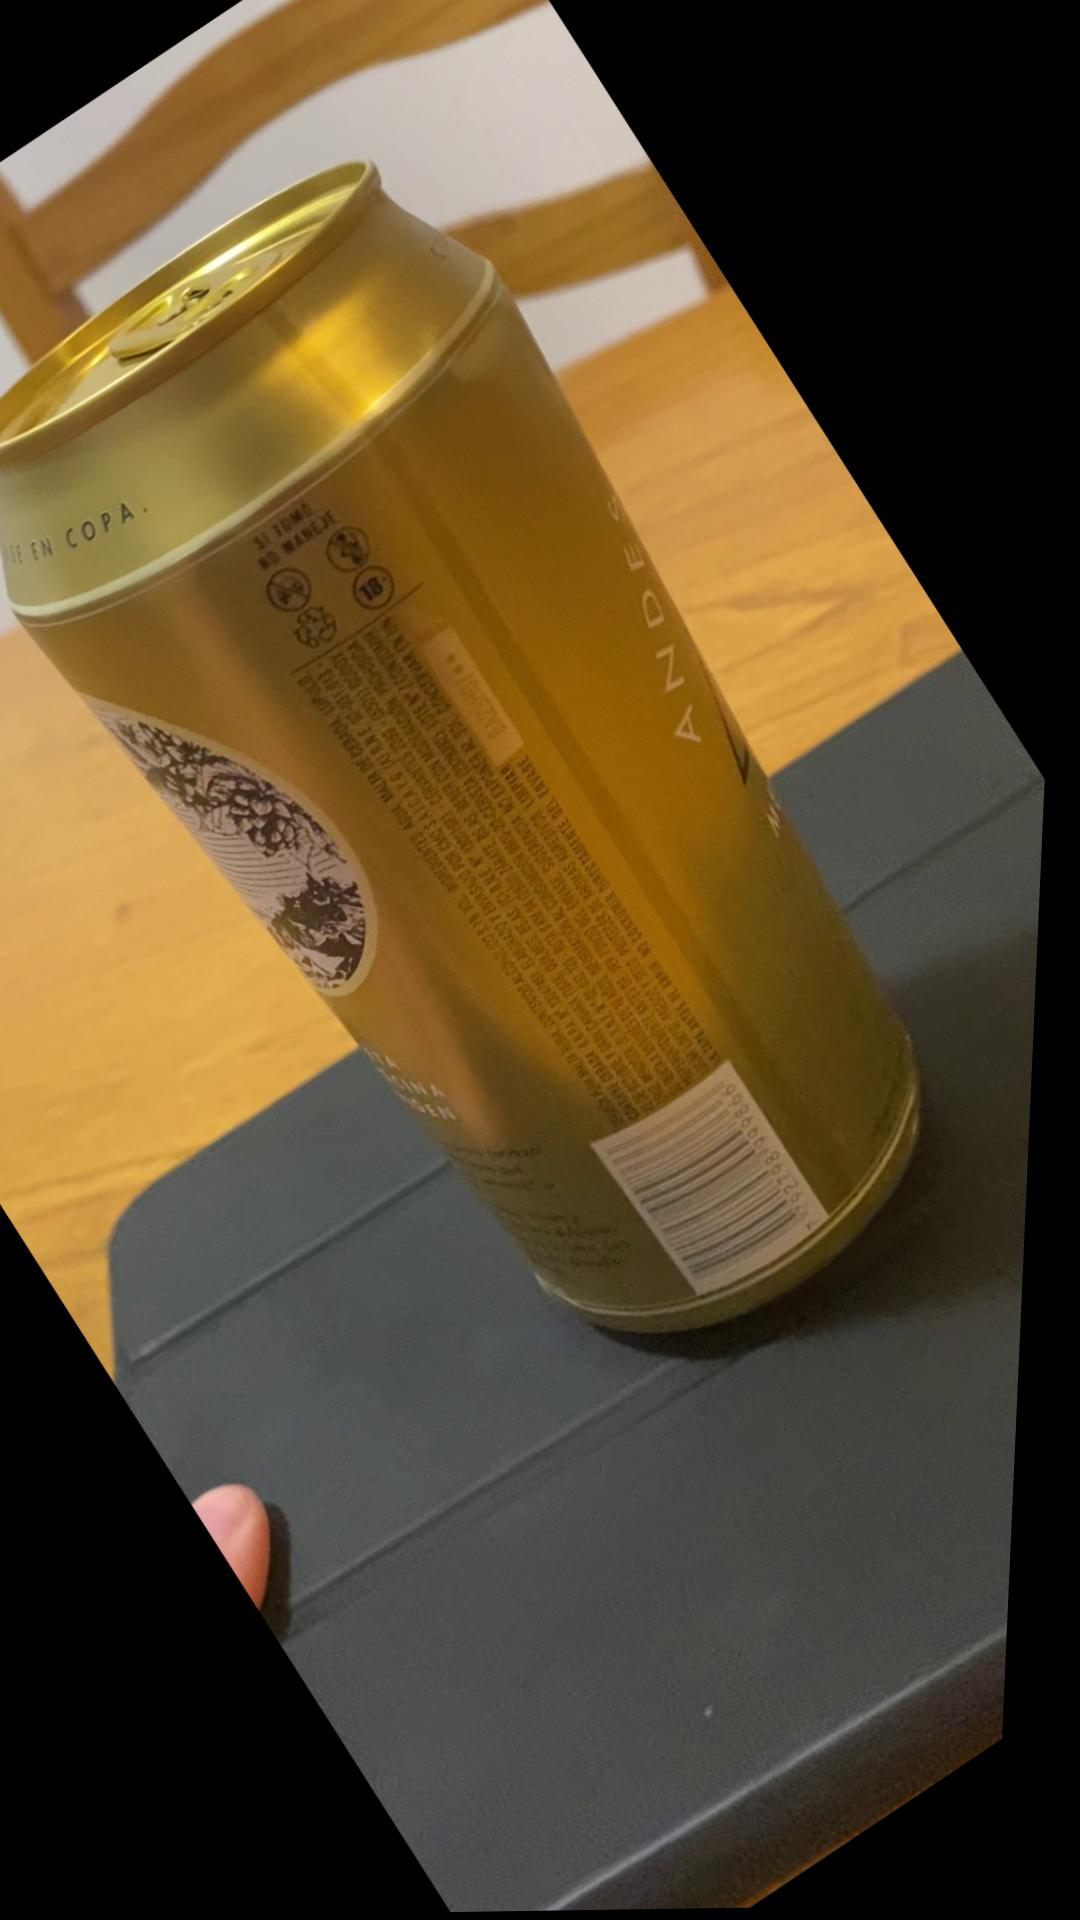metal: (0, 164, 934, 1329)
